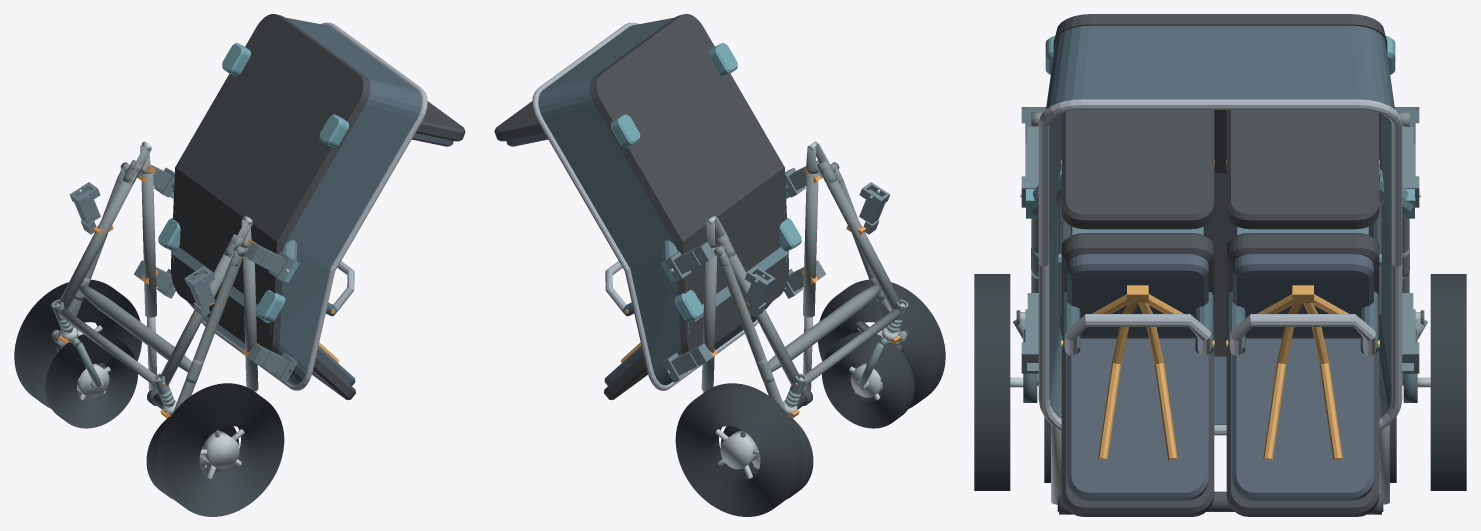
Rendered from S12_w650_state3_wheel_L.glb.
3 renders of one model, left to right at view 1: azimuth 30°, elevation 25°; view 2: azimuth 150°, elevation 25°; view 3: azimuth 270°, elevation 25°, orthographic. The views are drawn at different scales.
Visible parts, largest first — view 1: S12_Cabin, RL_tire.008, FR_tire.008, RR_tire.008, V46_rearbar.009, main_upper_1.009, main_lower_1.009, V46_rear_leg_-1.009, main_upper_-1.009, main_lower_-1.009, front_fixed_round_tube.008, RL_sealed_hub.008 (+9 smaller); view 2: S12_Cabin, RR_tire.008, FL_tire.008, RL_tire.008, V46_rearbar.009, main_upper_-1.009, main_lower_-1.009, V46_rear_leg_1.009, main_upper_1.009, main_lower_1.009, front_fixed_round_tube.008, RR_sealed_hub.008 (+9 smaller); view 3: S12_Cabin, RL_tire.008, RR_tire.008, Universal_Cabin_Receiver_H_1, Universal_Cabin_Receiver_H_-1, S12_Cabin_Mount_M, Universal_Cabin_Receiver_M_1, Universal_Cabin_Receiver_M_-1, handle_slider_1.008, handle_slider_-1.008.
Part boxes in pixels (x1,y1,x2,y2): S12_Cabin: (158, 14, 465, 400); RL_tire.008: (156, 383, 284, 516); FR_tire.008: (45, 331, 137, 428); RR_tire.008: (14, 279, 141, 408); V46_rearbar.009: (78, 285, 191, 372); main_upper_1.009: (141, 172, 156, 317); main_lower_1.009: (58, 173, 136, 310); V46_rear_leg_-1.009: (173, 256, 242, 412); main_upper_-1.009: (242, 246, 258, 391); main_lower_-1.009: (159, 252, 234, 385); front_fixed_round_tube.008: (58, 309, 155, 385); RL_sealed_hub.008: (201, 431, 239, 469); S12_Cabin: (494, 14, 801, 400); RR_tire.008: (675, 383, 803, 516); FL_tire.008: (822, 331, 914, 428); RL_tire.008: (818, 279, 945, 408); V46_rearbar.009: (768, 285, 881, 372); main_upper_-1.009: (803, 172, 818, 317); main_lower_-1.009: (823, 173, 901, 310); V46_rear_leg_1.009: (717, 256, 786, 412); main_upper_1.009: (701, 246, 717, 391); main_lower_1.009: (725, 252, 800, 385); front_fixed_round_tube.008: (804, 309, 901, 385); RR_sealed_hub.008: (720, 431, 758, 469); S12_Cabin: (1038, 14, 1402, 516); RL_tire.008: (974, 274, 1010, 490); RR_tire.008: (1430, 274, 1466, 490); Universal_Cabin_Receiver_H_1: (1402, 293, 1419, 373); Universal_Cabin_Receiver_H_-1: (1021, 293, 1038, 373); S12_Cabin_Mount_M: (1020, 167, 1420, 218); Universal_Cabin_Receiver_M_1: (1402, 127, 1419, 207); Universal_Cabin_Receiver_M_-1: (1021, 127, 1038, 207); handle_slider_1.008: (1379, 425, 1389, 504); handle_slider_-1.008: (1051, 425, 1061, 504).
Size of the model in its own units: 1.02 by 1.1 by 0.8171.
